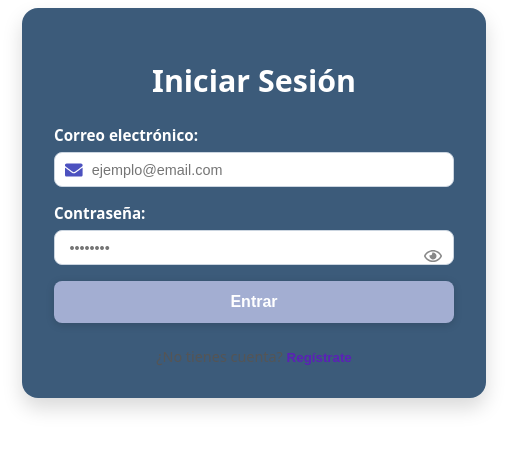
Scenario: LoginForm › muestra error cuando el servicio falla
Type "a@a.com" into the field labelled "Correo electrónico:" at (254, 170), box [54, 152, 454, 187]
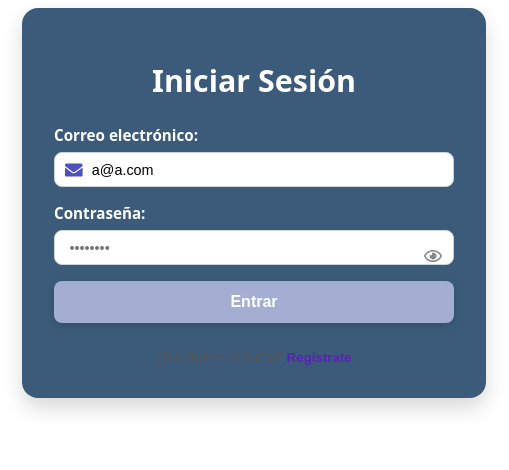
Type "x" into the password field labelled "Contraseña:" at (254, 248), box [54, 230, 454, 265]
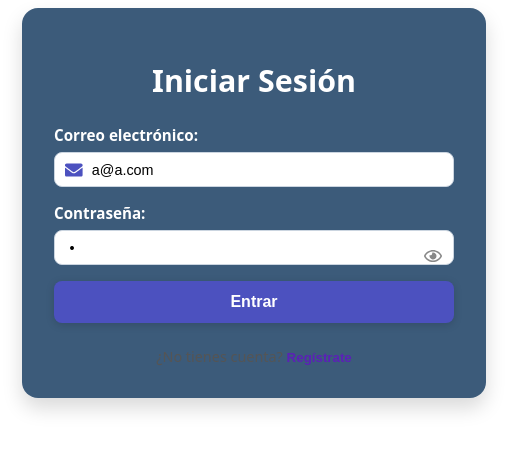
Click the button "Entrar" at (254, 302), box [54, 281, 454, 323]
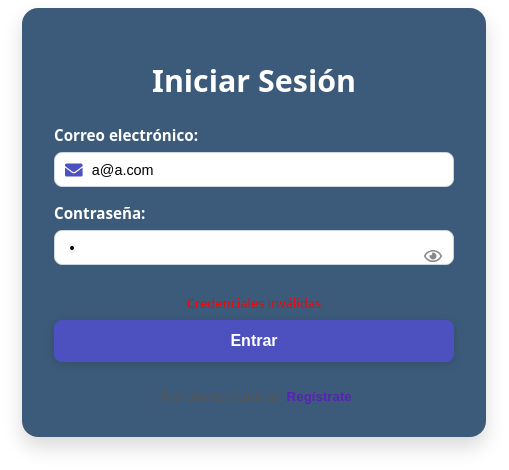
Now the text "Credenciales inválidas" is shown, box [187, 294, 321, 312]
